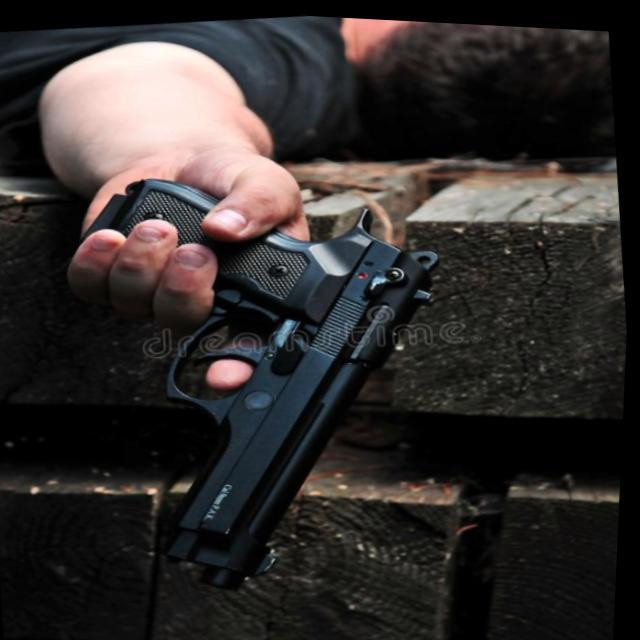weapon: (44, 132, 496, 620)
